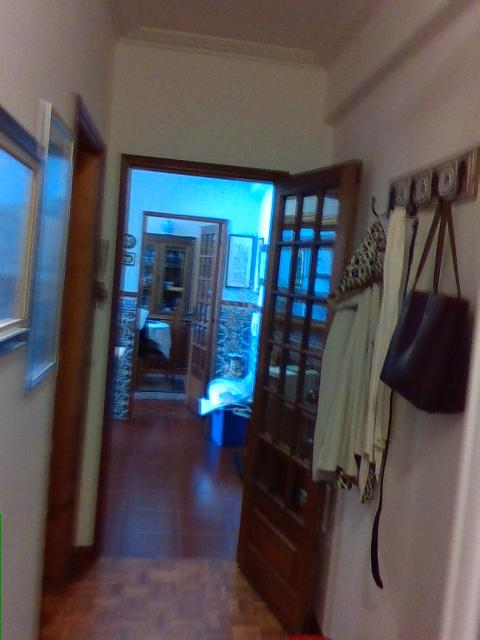open_door: (92, 156, 286, 569)
